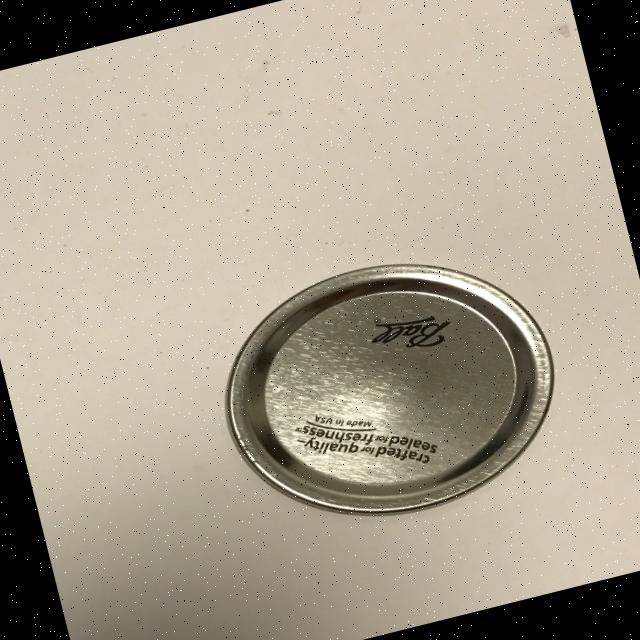metal: (197, 226, 580, 552)
